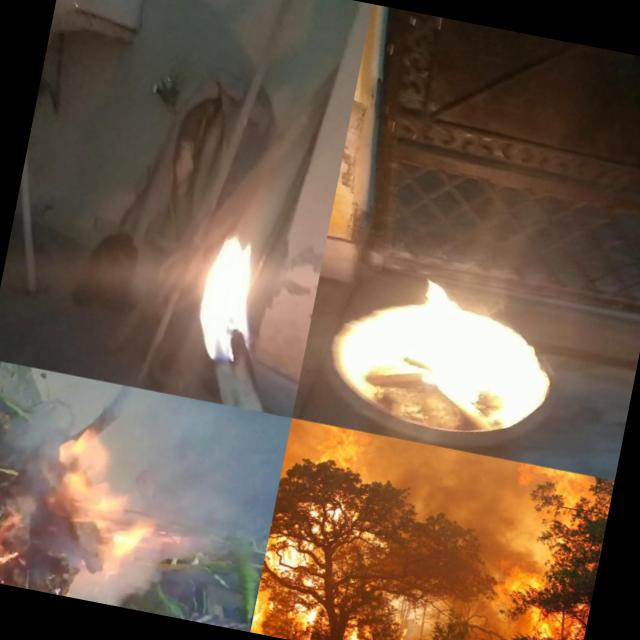fire: (168, 200, 305, 384), (384, 277, 534, 416), (0, 496, 133, 606), (506, 463, 603, 557), (250, 517, 302, 638), (487, 577, 568, 640), (313, 424, 372, 490), (281, 610, 336, 640)
smoke: (0, 359, 124, 517), (388, 452, 516, 543), (397, 563, 495, 640), (466, 536, 536, 584), (363, 434, 405, 489)
